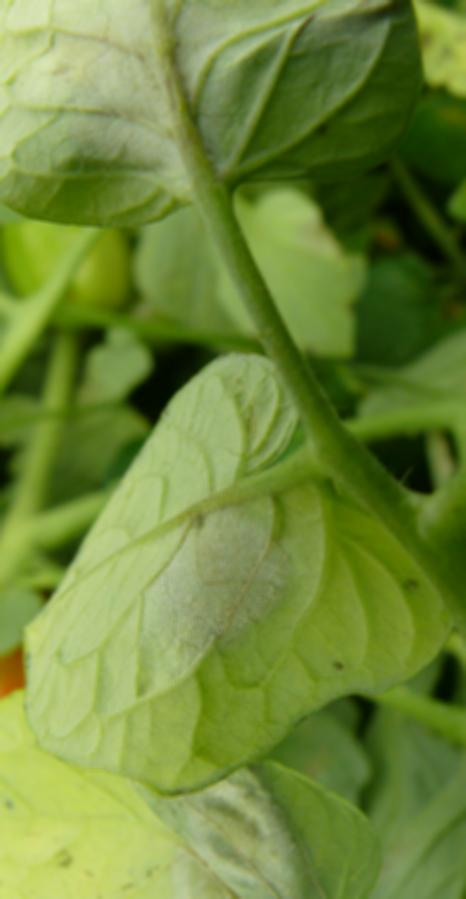Tomato leaf late blight: (24, 342, 458, 778), (0, 0, 466, 224), (0, 679, 441, 899)
